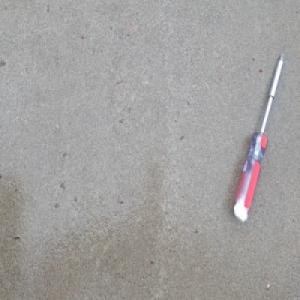Screwdriver: (231, 49, 285, 224)
